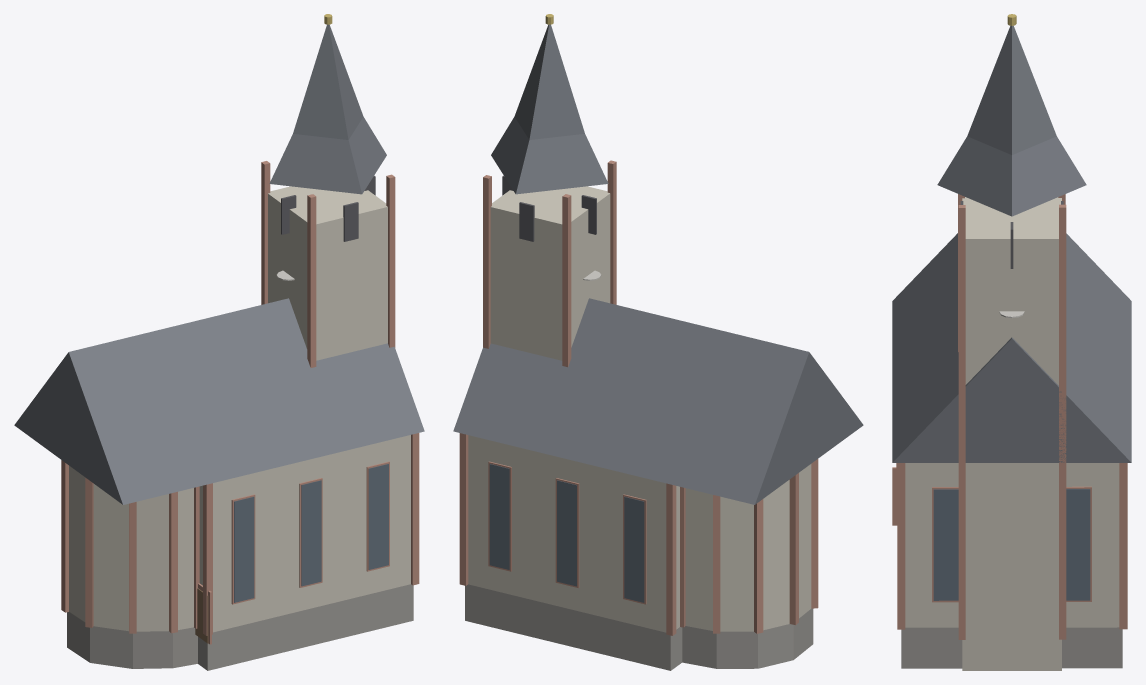
File: landmark-church-evangelische-kirche-sitzenkirch.glb
3 renders of one model, left to right at view 1: azimuth 30°, elevation 25°; view 2: azimuth 150°, elevation 25°; view 3: azimuth 270°, elevation 25°, orthographic. The views are drawn at different scales.
Parts seen in each view (by area): view 1: building; view 2: building; view 3: building.
Part boxes in pixels (x1,y1,x2,y2): building: (14, 14, 424, 670); building: (453, 14, 863, 670); building: (892, 14, 1131, 670).
Size of the model in its own units: 22.39 by 38.75 by 13.27.
